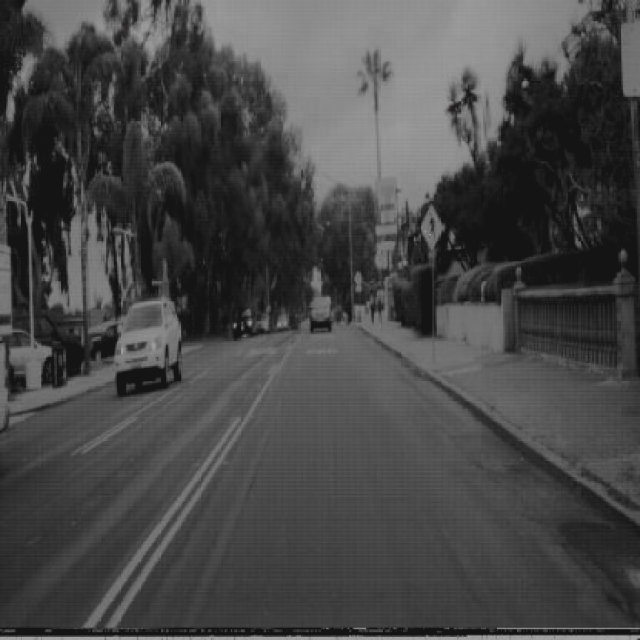pedestrianCrossing: (422, 203, 446, 253)
